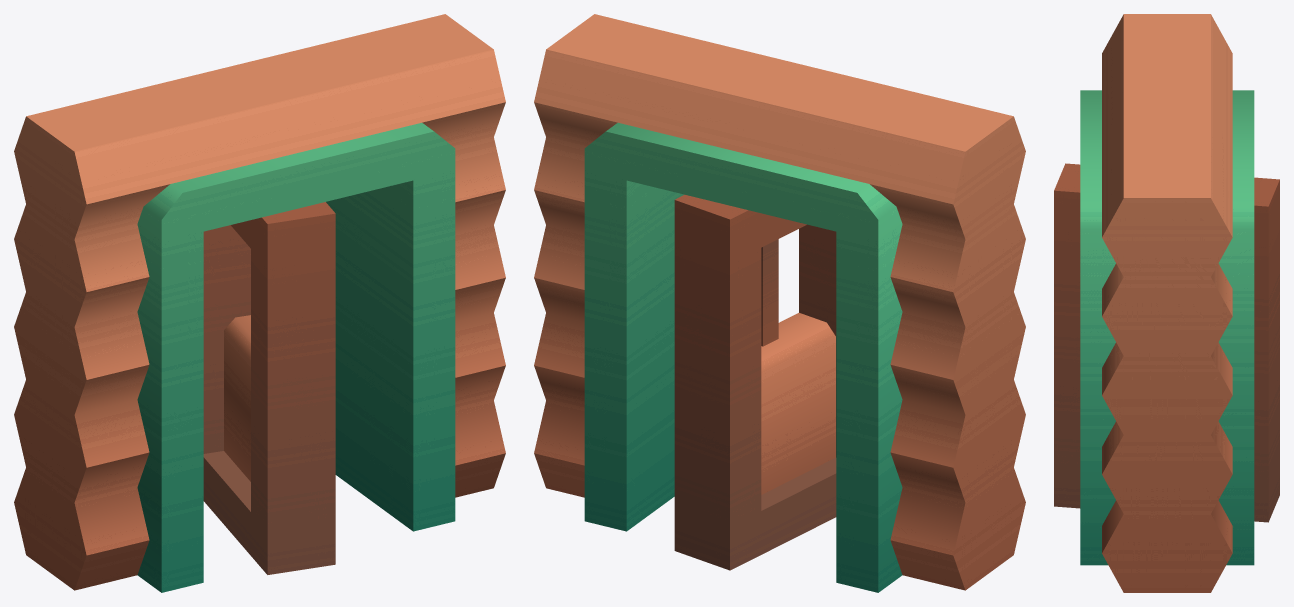
Rendered from cabin-door-rotate.glb.
The picture shows the model from 3 angles, left to right: view 1: azimuth 30°, elevation 25°; view 2: azimuth 150°, elevation 25°; view 3: azimuth 270°, elevation 25°; orthographic projection. The views are drawn at different scales.
Visible parts, largest first — view 1: cabin-door-rotate, cabin-door-rotate.001; view 2: cabin-door-rotate, cabin-door-rotate.001; view 3: cabin-door-rotate, cabin-door-rotate.001.
Boxes of the visible parts, left/top/right/bottom form: cabin-door-rotate: left=14, top=14, right=505, bottom=592; cabin-door-rotate.001: left=203, top=202, right=335, bottom=574; cabin-door-rotate: left=534, top=14, right=1025, bottom=592; cabin-door-rotate.001: left=674, top=194, right=836, bottom=570; cabin-door-rotate: left=1080, top=14, right=1254, bottom=592; cabin-door-rotate.001: left=1054, top=163, right=1279, bottom=522.
Bounding box in the file's own units: 3 × 3 × 1.56.
Materials: 1 (1 with a texture image).
